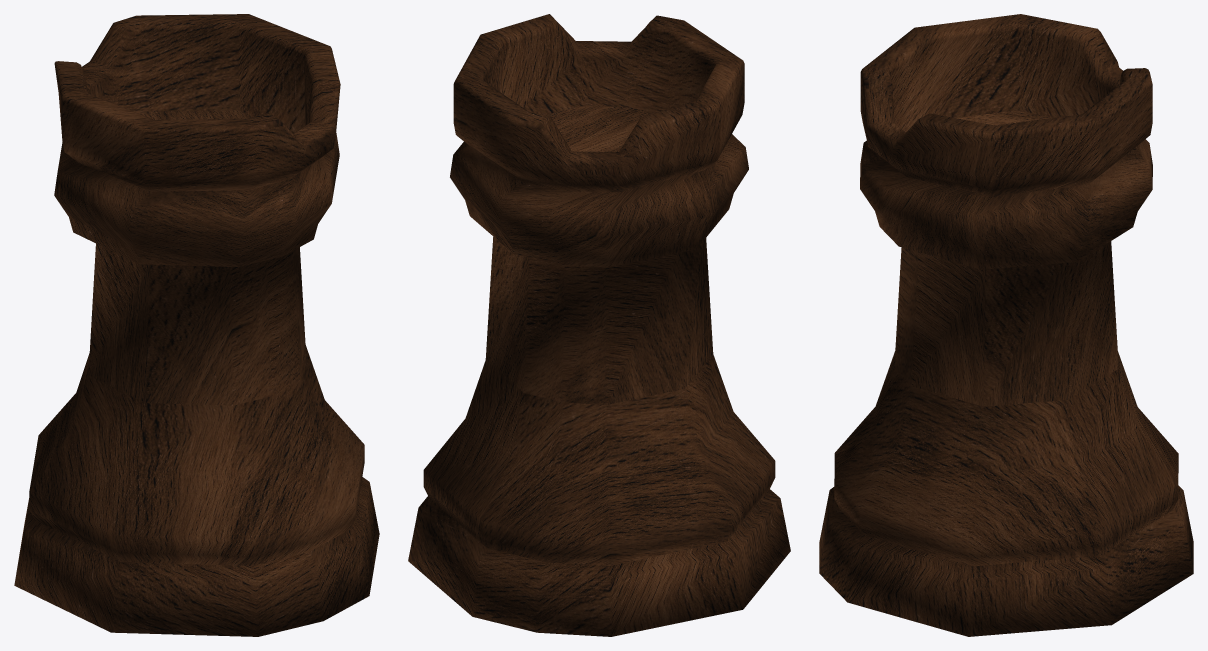
Rendered from rook_black.fbx.
3 views of the same model, side by side, from view 1: azimuth 30°, elevation 25°; view 2: azimuth 150°, elevation 25°; view 3: azimuth 270°, elevation 25° (orthographic).
Visible parts, largest first — view 1: BlackRook.001; view 2: BlackRook.001; view 3: BlackRook.001.
Boxes of the visible parts, left/top/right/bottom form: BlackRook.001: left=14, top=14, right=379, bottom=636; BlackRook.001: left=408, top=14, right=790, bottom=636; BlackRook.001: left=819, top=14, right=1193, bottom=636.
Bounding box in the file's own units: 2.94 × 4.2 × 2.94.
1 material, 1 textured.
